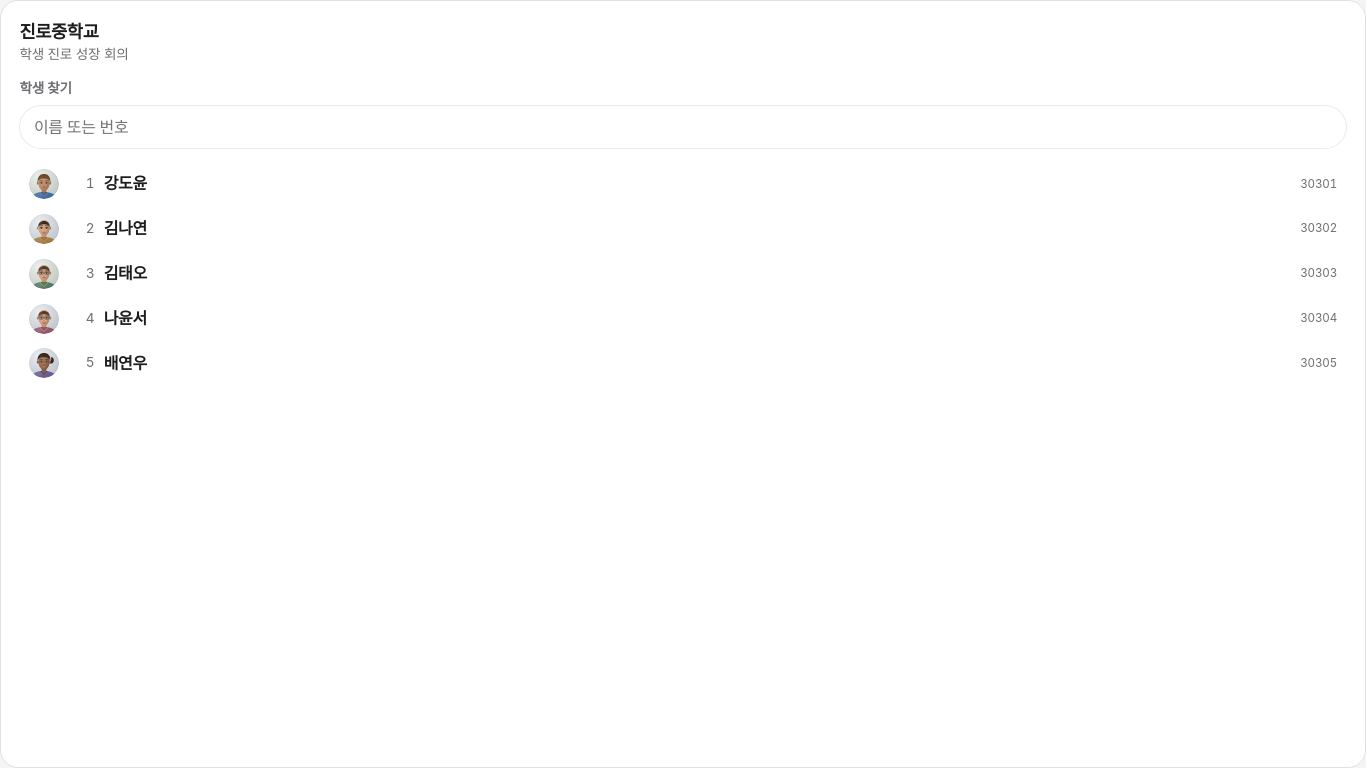
Test: Sidebar › 맞는 학생이 없으면 안내 문구를 보여준다
Expected: the link "1 강도윤 30301" is shown, x1=19 y1=163 x2=1347 y2=206
Type "존재하지않는이름" into the search field labelled "학생 찾기" at [683, 127], box x1=19 y1=105 x2=1347 y2=149
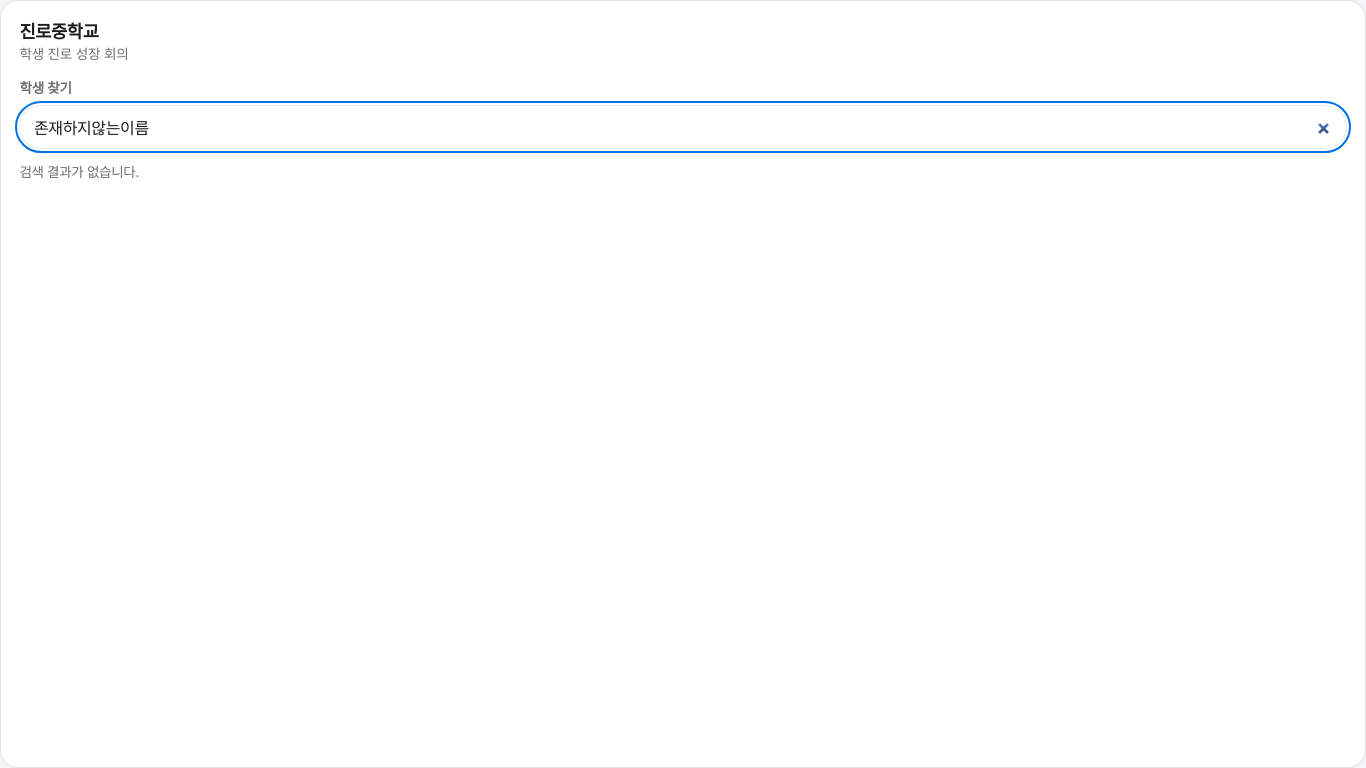
Result: the text "검색 결과가 없습니다." is shown at x1=19 y1=164 x2=139 y2=180
